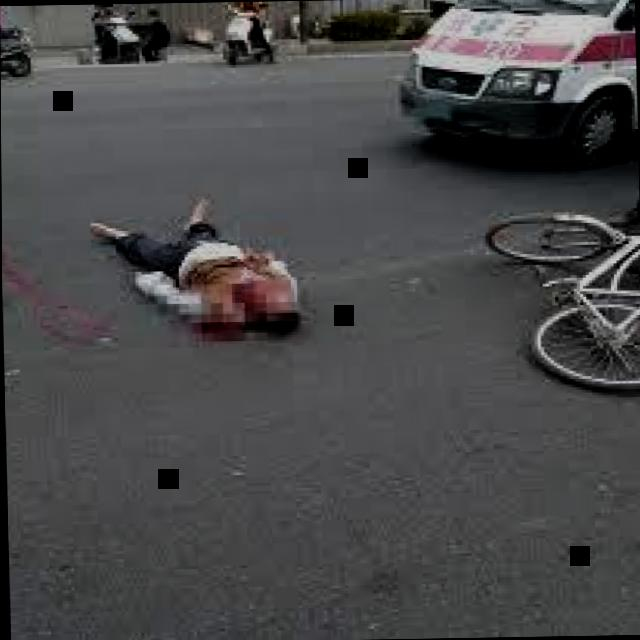Fall-Detected: (64, 173, 313, 341)
